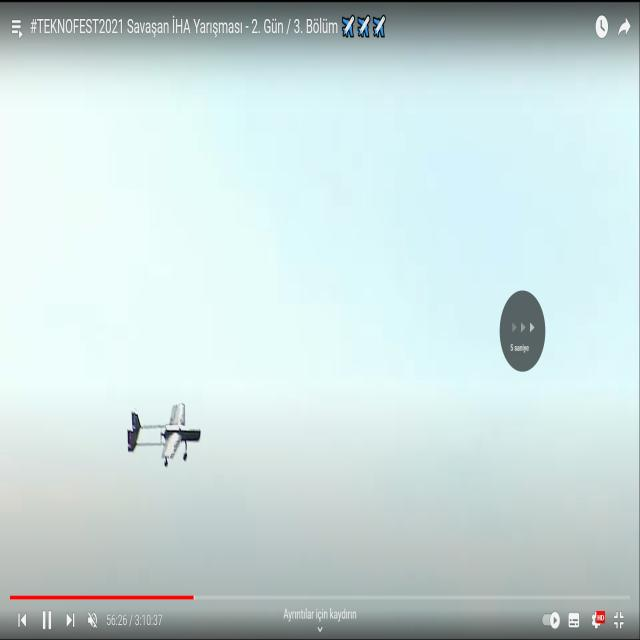iha: (162, 434, 166, 437)
